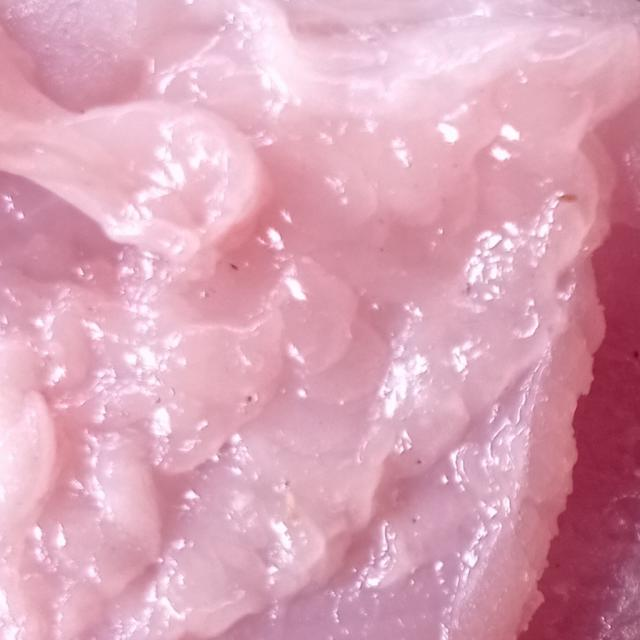pork: (44, 38, 588, 588)
